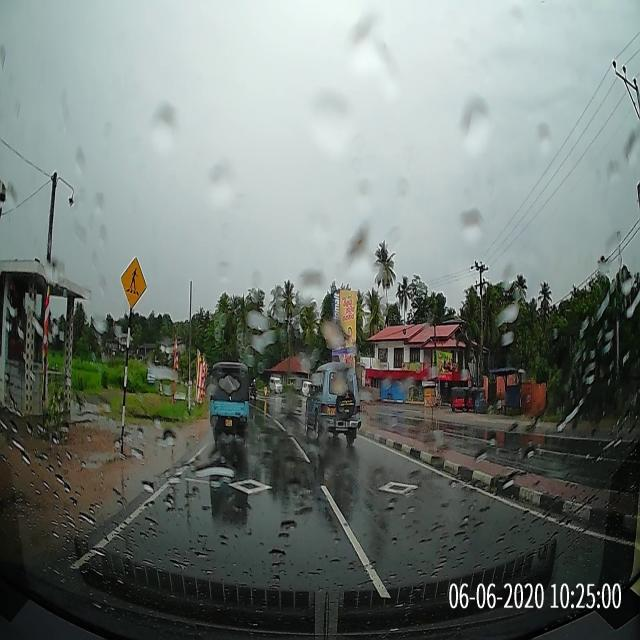diamond: (160, 469, 332, 505)
